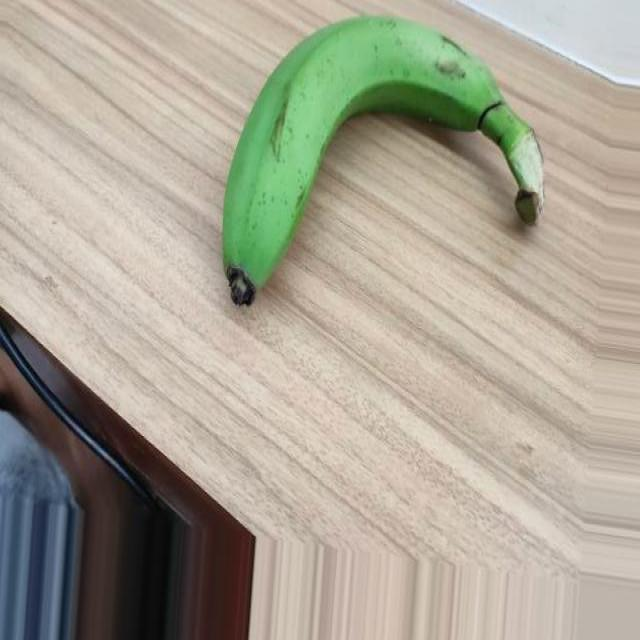Unripe: (221, 15, 545, 306)
